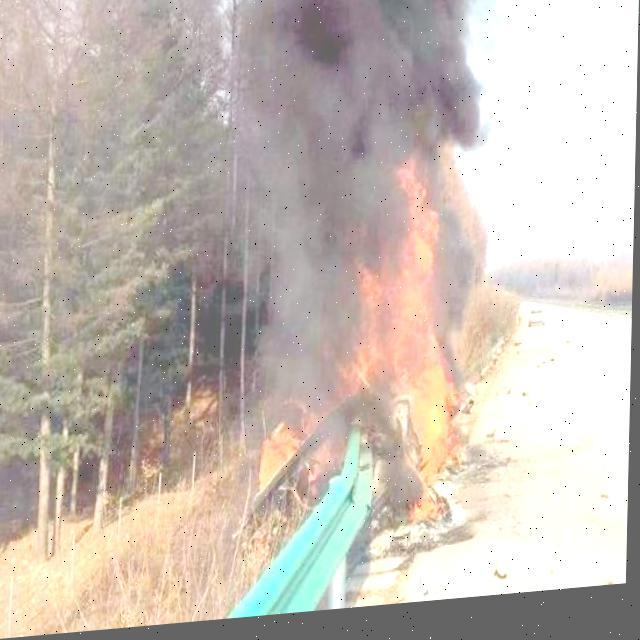Fire: (256, 169, 478, 542)
